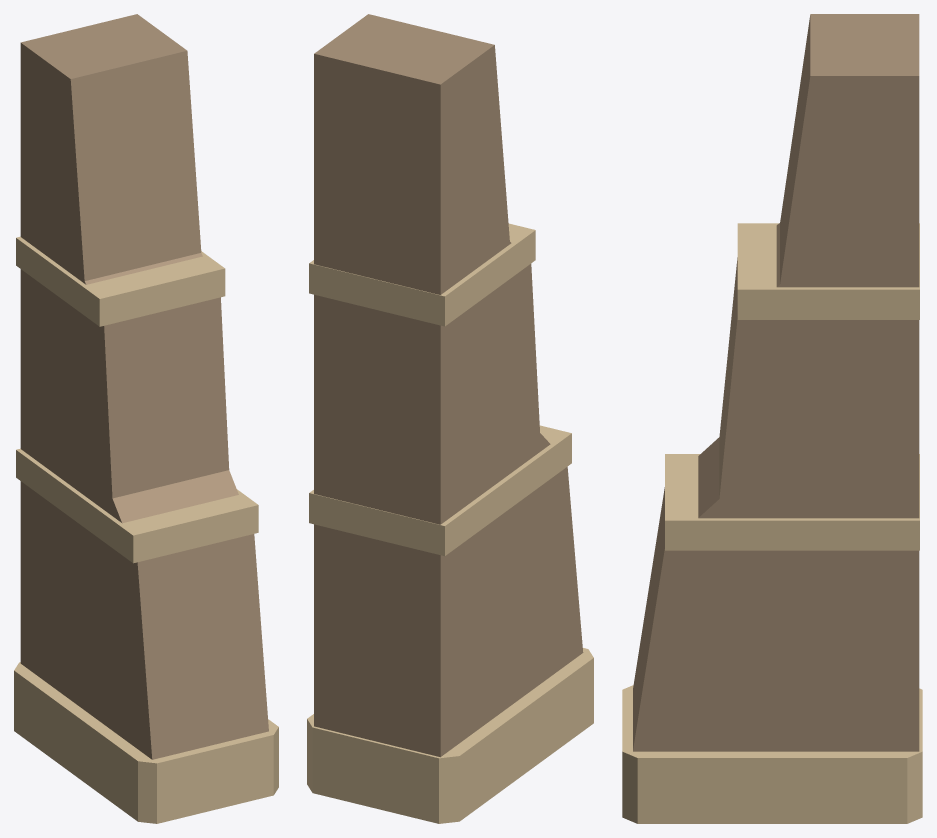
File: battered_buttress.glb
3 renders of one model, left to right at view 1: azimuth 30°, elevation 25°; view 2: azimuth 150°, elevation 25°; view 3: azimuth 270°, elevation 25°, orthographic. The views are drawn at different scales.
Parts seen in each view (by area): view 1: Battered buttress; view 2: Battered buttress; view 3: Battered buttress.
Part boxes in pixels (x1,y1,x2,y2): Battered buttress: (14, 14, 278, 823); Battered buttress: (307, 14, 593, 823); Battered buttress: (622, 14, 922, 823).
Bounding box in the file's own units: 0.292 × 1.35 × 0.495.
